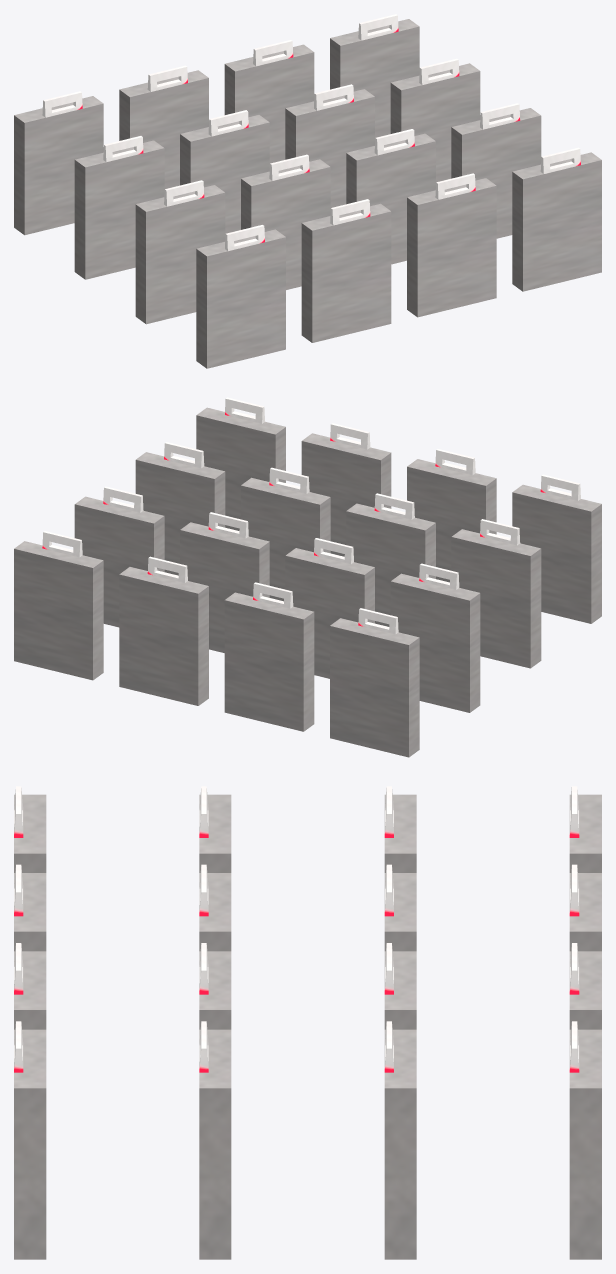
File: ElectronicPink_Item.fbx
3 views of the same model, one above another, from view 1: azimuth 30°, elevation 25°; view 2: azimuth 150°, elevation 25°; view 3: azimuth 270°, elevation 25° (orthographic). The views are drawn at different scales.
Visible parts, largest first — view 1: electronicPink_item20; view 2: electronicPink_item20; view 3: electronicPink_item20.
Boxes of the visible parts, bbox=[...] form: electronicPink_item20: bbox=[14, 14, 601, 368]; electronicPink_item20: bbox=[14, 397, 601, 757]; electronicPink_item20: bbox=[14, 786, 601, 1259].
Size of the model in its own units: 75.03 by 23.26 by 63.48.
